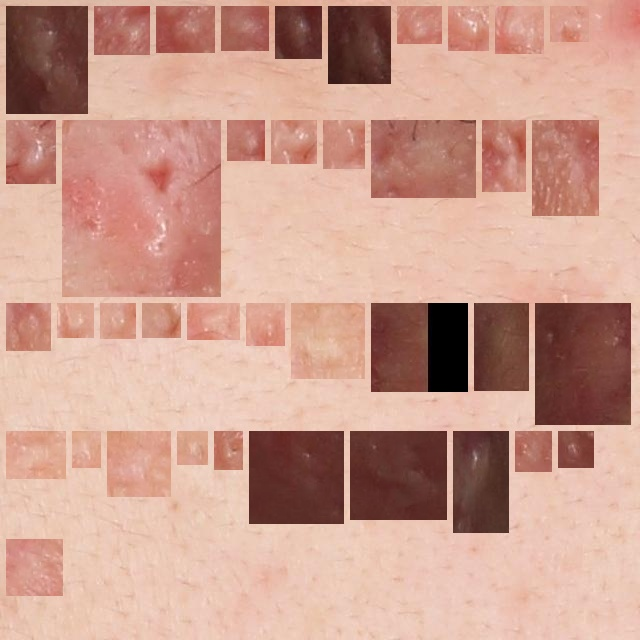hypertrophic_scar: (70, 128, 213, 289), (543, 311, 623, 417), (257, 439, 336, 516), (14, 14, 80, 106), (379, 311, 460, 384), (358, 439, 439, 512), (379, 128, 468, 190), (540, 128, 591, 208), (299, 311, 357, 371), (461, 439, 501, 525), (336, 14, 383, 76), (482, 311, 521, 383), (115, 439, 163, 489), (14, 547, 55, 588), (14, 128, 48, 176), (490, 128, 518, 184), (14, 439, 58, 471), (164, 14, 207, 45), (102, 14, 142, 47), (283, 14, 314, 51), (503, 14, 536, 46), (229, 14, 261, 43), (14, 311, 43, 343), (331, 128, 357, 161), (279, 128, 309, 156), (195, 311, 232, 332), (456, 14, 481, 43), (405, 14, 434, 36), (254, 311, 277, 338), (235, 128, 257, 153), (523, 439, 544, 464), (558, 14, 581, 34), (150, 311, 173, 330), (566, 439, 586, 460), (108, 311, 128, 331), (65, 311, 86, 330), (222, 439, 235, 462), (80, 439, 93, 460), (185, 439, 200, 457)
